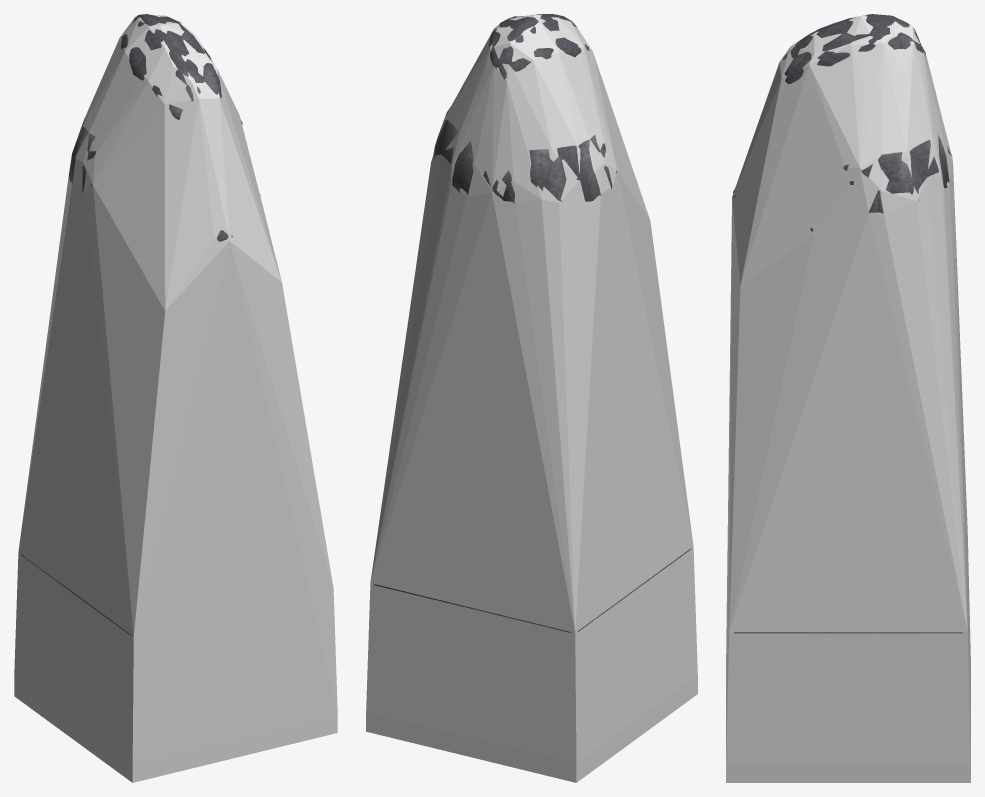
The model's file is statue_knight.webp.glb.
3 views of the same model, side by side, from view 1: azimuth 30°, elevation 25°; view 2: azimuth 150°, elevation 25°; view 3: azimuth 270°, elevation 25° (orthographic). The views are drawn at different scales.
Parts seen in each view (by area): view 1: COL, FRAC_6, statue_knight_lod0; view 2: COL, FRAC_2, statue_knight_lod0, FRAC_6; view 3: COL, statue_knight_lod0, FRAC_2, FRAC_6.
Part boxes in pixels (box(x1,y1,x2,y2)): COL: box(14, 14, 337, 782); FRAC_6: box(121, 14, 221, 119); statue_knight_lod0: box(20, 14, 232, 635); COL: box(366, 14, 697, 782); FRAC_2: box(433, 120, 616, 203); statue_knight_lod0: box(374, 14, 691, 632); FRAC_6: box(448, 14, 588, 110); COL: box(726, 14, 970, 782); statue_knight_lod0: box(733, 15, 962, 633); FRAC_2: box(810, 136, 952, 231); FRAC_6: box(784, 14, 925, 156).
Size of the model in its own units: 1.56 by 5 by 1.56.
Materials: 1 (1 with a texture image).
